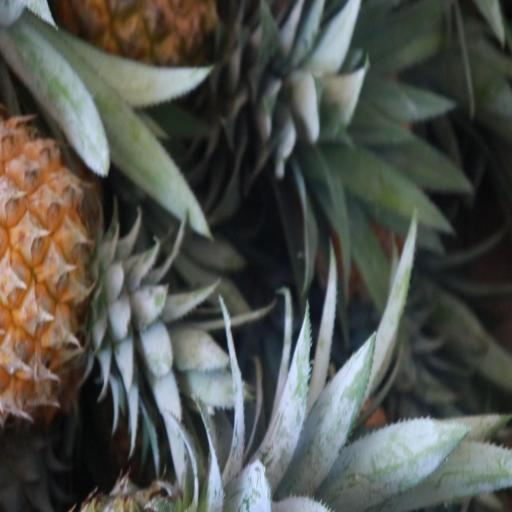Pineapple - v8 v1: (0, 122, 140, 409)
